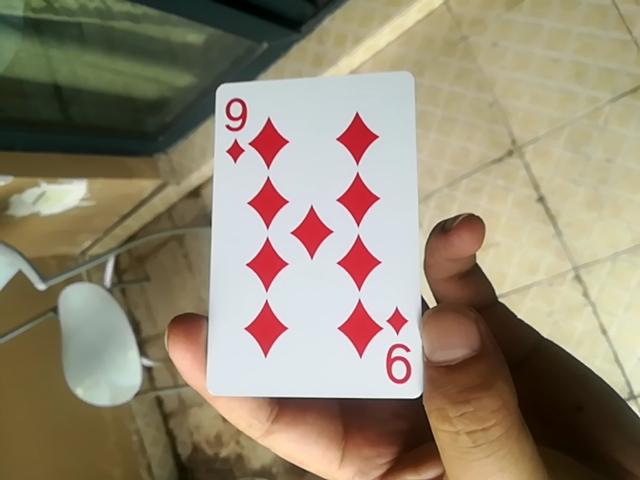fk 9: (203, 71, 423, 404)
